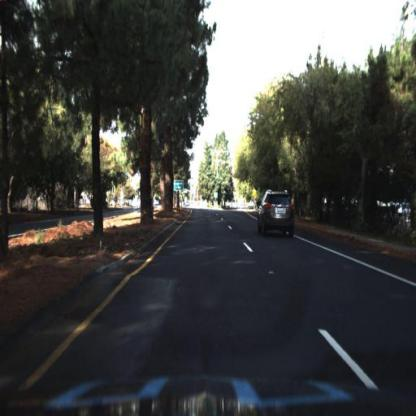car: (254, 191, 295, 241)
